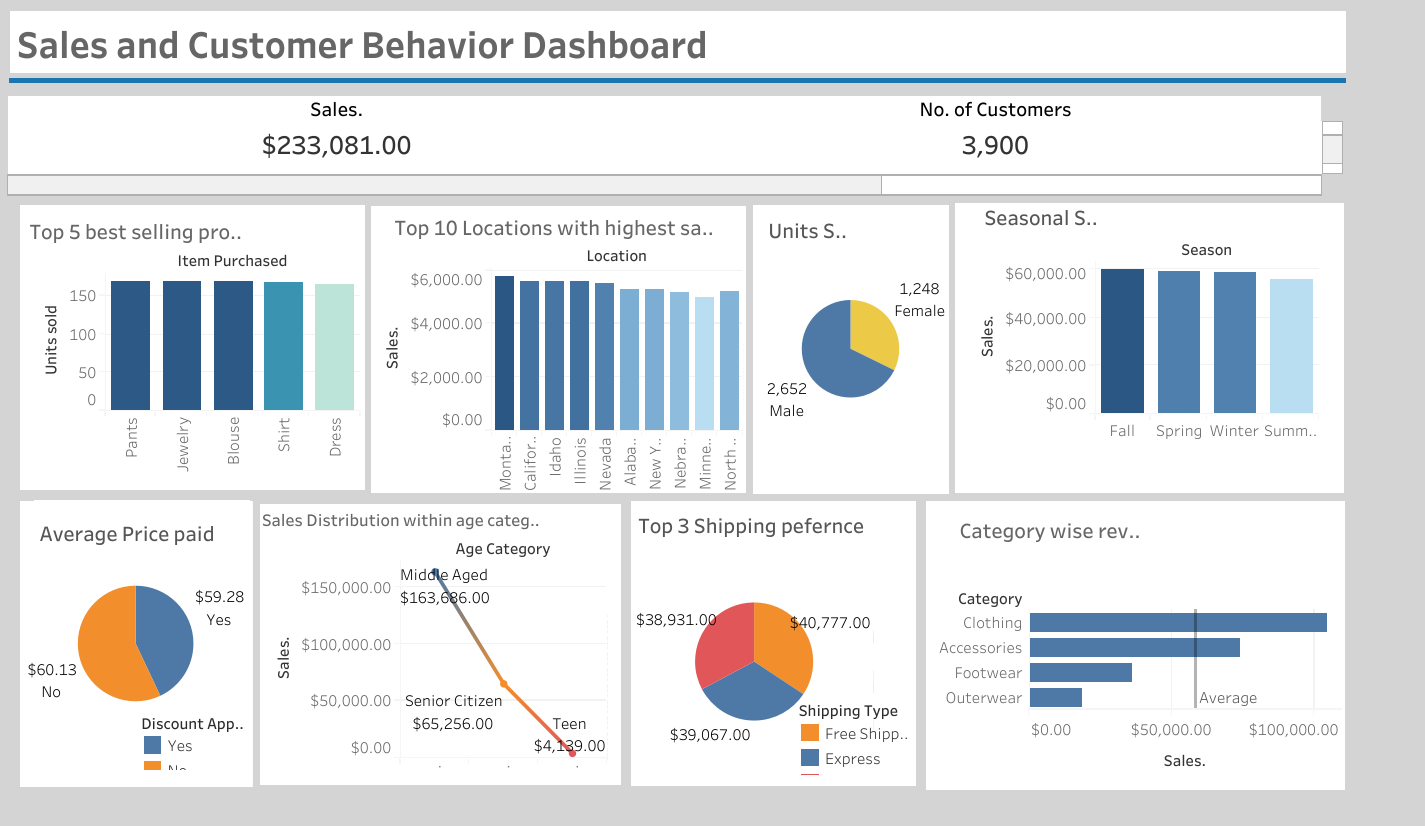

The page's visual inventory and layout, read from the dashboard file:
{"tool":"tableau","page":{"name":"Dashboard 1","canvas":[1000,1000],"units":"permille","ordinal":0},"visuals":[{"type":"text","box":[7.1,13.9,936.6,73.2]},{"type":"blank","box":[6.5,94.1,937.2,5.8]},{"type":"worksheet","title":"KPIs","mark":"Automatic","box":[5.3,116.1,936.6,120.8]},{"type":"text","box":[688.3,243.9,86.1,34.8]},{"type":"blank","box":[669.6,245.1,273,349.6]},{"type":"blank","box":[14.1,247.4,241.9,344.9]},{"type":"worksheet","title":"Sheet 9","mark":"Pie","box":[527.8,247.4,136.5,347.3]},{"type":"blank","box":[260.7,248.6,262.4,346.1]},{"type":"text","box":[274.2,256.7,227.3,34.8]},{"type":"text","box":[536.6,260.2,58.6,34.8]},{"type":"text","box":[18.2,261.3,152.3,34.8]},{"type":"worksheet","title":"Sheet 7","mark":"Bar","rows":["Calculation_588001228395970567"],"cols":["Season"],"box":[677.8,285.7,247.2,304.3]},{"type":"worksheet","title":"Sheet 11","mark":"Automatic","rows":["Calculation_588001228395970567"],"cols":["Location"],"box":[260.1,292.7,260.1,304.3]},{"type":"worksheet","title":"Sheet 2","mark":"Bar","rows":["Calculation_588001228252229633"],"cols":["Item Purchased"],"box":[21.1,298.5,231.4,286.9]},{"type":"blank","box":[23.4,604,151.7,333.3]},{"type":"worksheet","title":"Sheet 6","mark":"Pie","box":[13.6,605.1,162.3,344.9]},{"type":"blank","box":[649.7,605.1,293.5,349.6]},{"type":"blank","box":[442.9,606.3,199.8,343.8]},{"type":"blank","box":[182.2,608.6,253.1,340.3]},{"type":"text","box":[181.6,609.8,198.6,34.8]},{"type":"text","box":[445.2,615.6,223.2,34.8]},{"type":"text","box":[670.8,622.5,130.1,34.8]},{"type":"text","box":[25.8,623.7,138.8,39.5]},{"type":"worksheet","title":"Sheet 4","mark":"Line","rows":["Calculation_588001228395970567"],"cols":["Calculation_588001228252049408"],"box":[184,646.9,240.8,283.4]},{"type":"worksheet","title":"Sheet 13","mark":"Pie","box":[445.8,651.6,166.4,296.2]},{"type":"worksheet","title":"Sheet 1","mark":"Bar","rows":["Category"],"cols":["Calculation_588001228395970567"],"box":[651.4,706.2,289.4,238.1]},{"type":"legend","title":"Sheet 13","param":"[federated.0qywv7x0rhh8pf1gxynri0tf3xay].[none:Shipping Type:nk]","box":[559.5,840.9,80.3,95.2]},{"type":"legend","title":"Sheet 6","param":"[federated.0qywv7x0rhh8pf1gxynri0tf3xay].[none:Discount Applied:nk]","box":[98.4,856,71.5,74.3]}]}

Visuals, with their boxes on the dashboard's canvas, which has no fixed pixel size, in thousandths of its width and height (x1, y1, x2, y2). These are canvas units, not pixel positions in the 1425x826 screenshot, which may show the page scaled, cropped or inside an application window:
text: <bbox>7, 14, 944, 87</bbox>
blank: <bbox>6, 94, 944, 100</bbox>
"KPIs" worksheet: <bbox>5, 116, 942, 237</bbox>
text: <bbox>688, 244, 774, 279</bbox>
blank: <bbox>670, 245, 943, 595</bbox>
blank: <bbox>14, 247, 256, 592</bbox>
"Sheet 9" worksheet (Pie marks): <bbox>528, 247, 664, 595</bbox>
blank: <bbox>261, 249, 523, 595</bbox>
text: <bbox>274, 257, 502, 292</bbox>
text: <bbox>537, 260, 595, 295</bbox>
text: <bbox>18, 261, 170, 296</bbox>
"Sheet 7" worksheet (Bar marks): <bbox>678, 286, 925, 590</bbox>
"Sheet 11" worksheet: <bbox>260, 293, 520, 597</bbox>
"Sheet 2" worksheet (Bar marks): <bbox>21, 298, 252, 585</bbox>
blank: <bbox>23, 604, 175, 937</bbox>
"Sheet 6" worksheet (Pie marks): <bbox>14, 605, 176, 950</bbox>
blank: <bbox>650, 605, 943, 955</bbox>
blank: <bbox>443, 606, 643, 950</bbox>
blank: <bbox>182, 609, 435, 949</bbox>
text: <bbox>182, 610, 380, 645</bbox>
text: <bbox>445, 616, 668, 650</bbox>
text: <bbox>671, 622, 801, 657</bbox>
text: <bbox>26, 624, 165, 663</bbox>
"Sheet 4" worksheet (Line marks): <bbox>184, 647, 425, 930</bbox>
"Sheet 13" worksheet (Pie marks): <bbox>446, 652, 612, 948</bbox>
"Sheet 1" worksheet (Bar marks): <bbox>651, 706, 941, 944</bbox>
"Sheet 13" legend: <bbox>560, 841, 640, 936</bbox>
"Sheet 6" legend: <bbox>98, 856, 170, 930</bbox>
